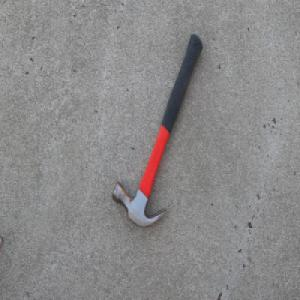Hammer: (111, 32, 203, 229)
